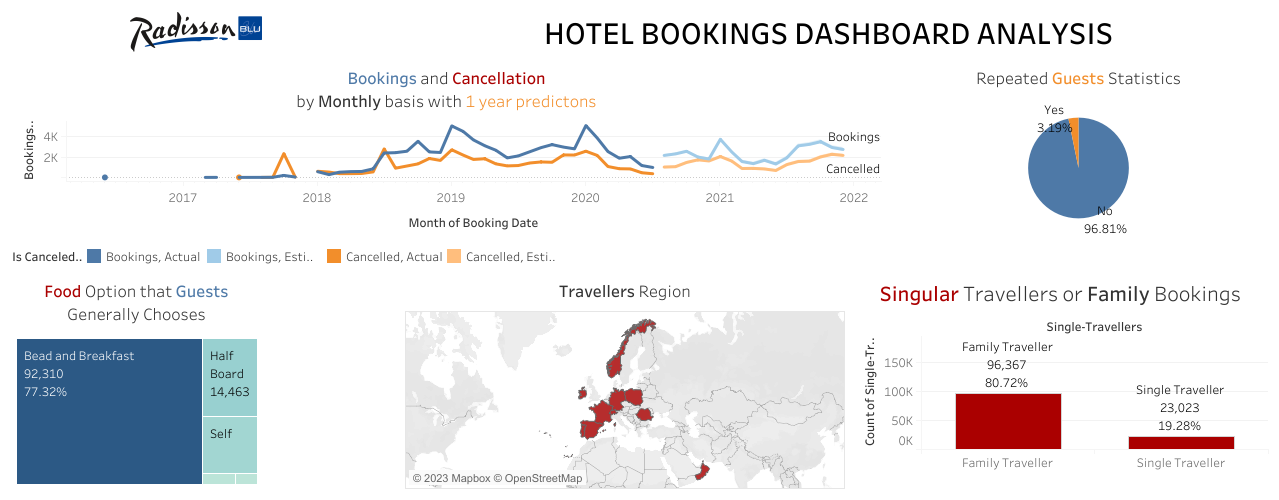

The dashboard page shown, as its layout file describes it:
{"tool":"tableau","page":{"name":"Dashboard 1","canvas":[1000,1000],"units":"permille","ordinal":0},"visuals":[{"type":"image","param":"Image/Radisson_Blue_Hotel_Logo_black_text.png","box":[7.3,13.5,293.8,96.3]},{"type":"text","box":[301.1,13.5,691.6,96.3]},{"type":"worksheet","title":"Sheet 1","mark":"Automatic","rows":["is_canceled"],"cols":["booking_date"],"box":[7.3,109.8,683.4,373.3]},{"type":"worksheet","title":"Sheet 2","mark":"Pie","box":[690.7,109.8,302,372.8]},{"type":"legend","title":"Sheet 1","param":"[federated.1oae3ko04xcme510rcsqh11wg3im].[none:is_canceled:nk]\n[federated.1oae3k","box":[7.3,483.1,985.4,54.1]},{"type":"worksheet","title":"Sheet 3","mark":"Automatic","box":[7.3,537.2,306.6,449.3]},{"type":"worksheet","title":"Sheet 5","mark":"Multipolygon","box":[313.9,537.2,349,449.3]},{"type":"worksheet","title":"Sheet 4","mark":"Automatic","rows":["Calculation_882142645633585153"],"cols":["Calculation_882142645633585153"],"box":[662.9,537.2,329.9,449.3]}]}

Visuals, with their boxes on the dashboard's canvas, which has no fixed pixel size, in thousandths of its width and height (x1, y1, x2, y2). These are canvas units, not pixel positions in the 1279x500 screenshot, which may show the page scaled, cropped or inside an application window:
image: left=7, top=14, right=301, bottom=110
text: left=301, top=14, right=993, bottom=110
"Sheet 1" worksheet: left=7, top=110, right=691, bottom=483
"Sheet 2" worksheet (Pie marks): left=691, top=110, right=993, bottom=483
"Sheet 1" legend: left=7, top=483, right=993, bottom=537
"Sheet 3" worksheet: left=7, top=537, right=314, bottom=986
"Sheet 5" worksheet (Multipolygon marks): left=314, top=537, right=663, bottom=986
"Sheet 4" worksheet: left=663, top=537, right=993, bottom=986
